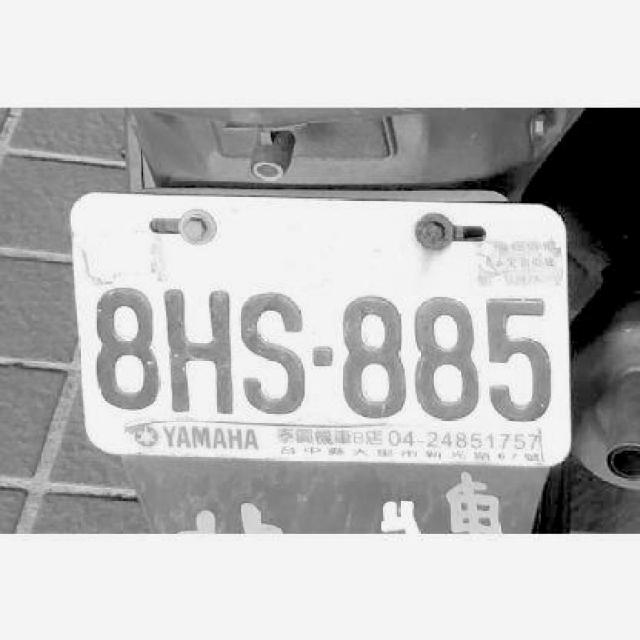-: (314, 346, 335, 366)
5: (482, 295, 556, 420)
8: (92, 285, 163, 412), (414, 294, 481, 421), (342, 294, 408, 421)
H: (165, 286, 237, 416)
S: (239, 294, 306, 414)
